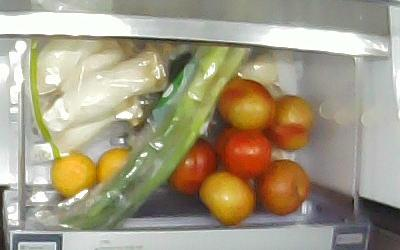prune: (197, 170, 256, 226), (215, 77, 275, 130), (254, 158, 308, 215), (164, 135, 217, 193), (265, 93, 314, 150), (219, 128, 271, 177)
tangerine: (49, 150, 96, 199), (95, 147, 130, 184)
